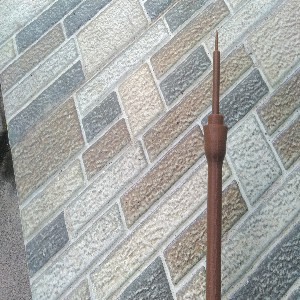solder: (202, 29, 229, 300)
